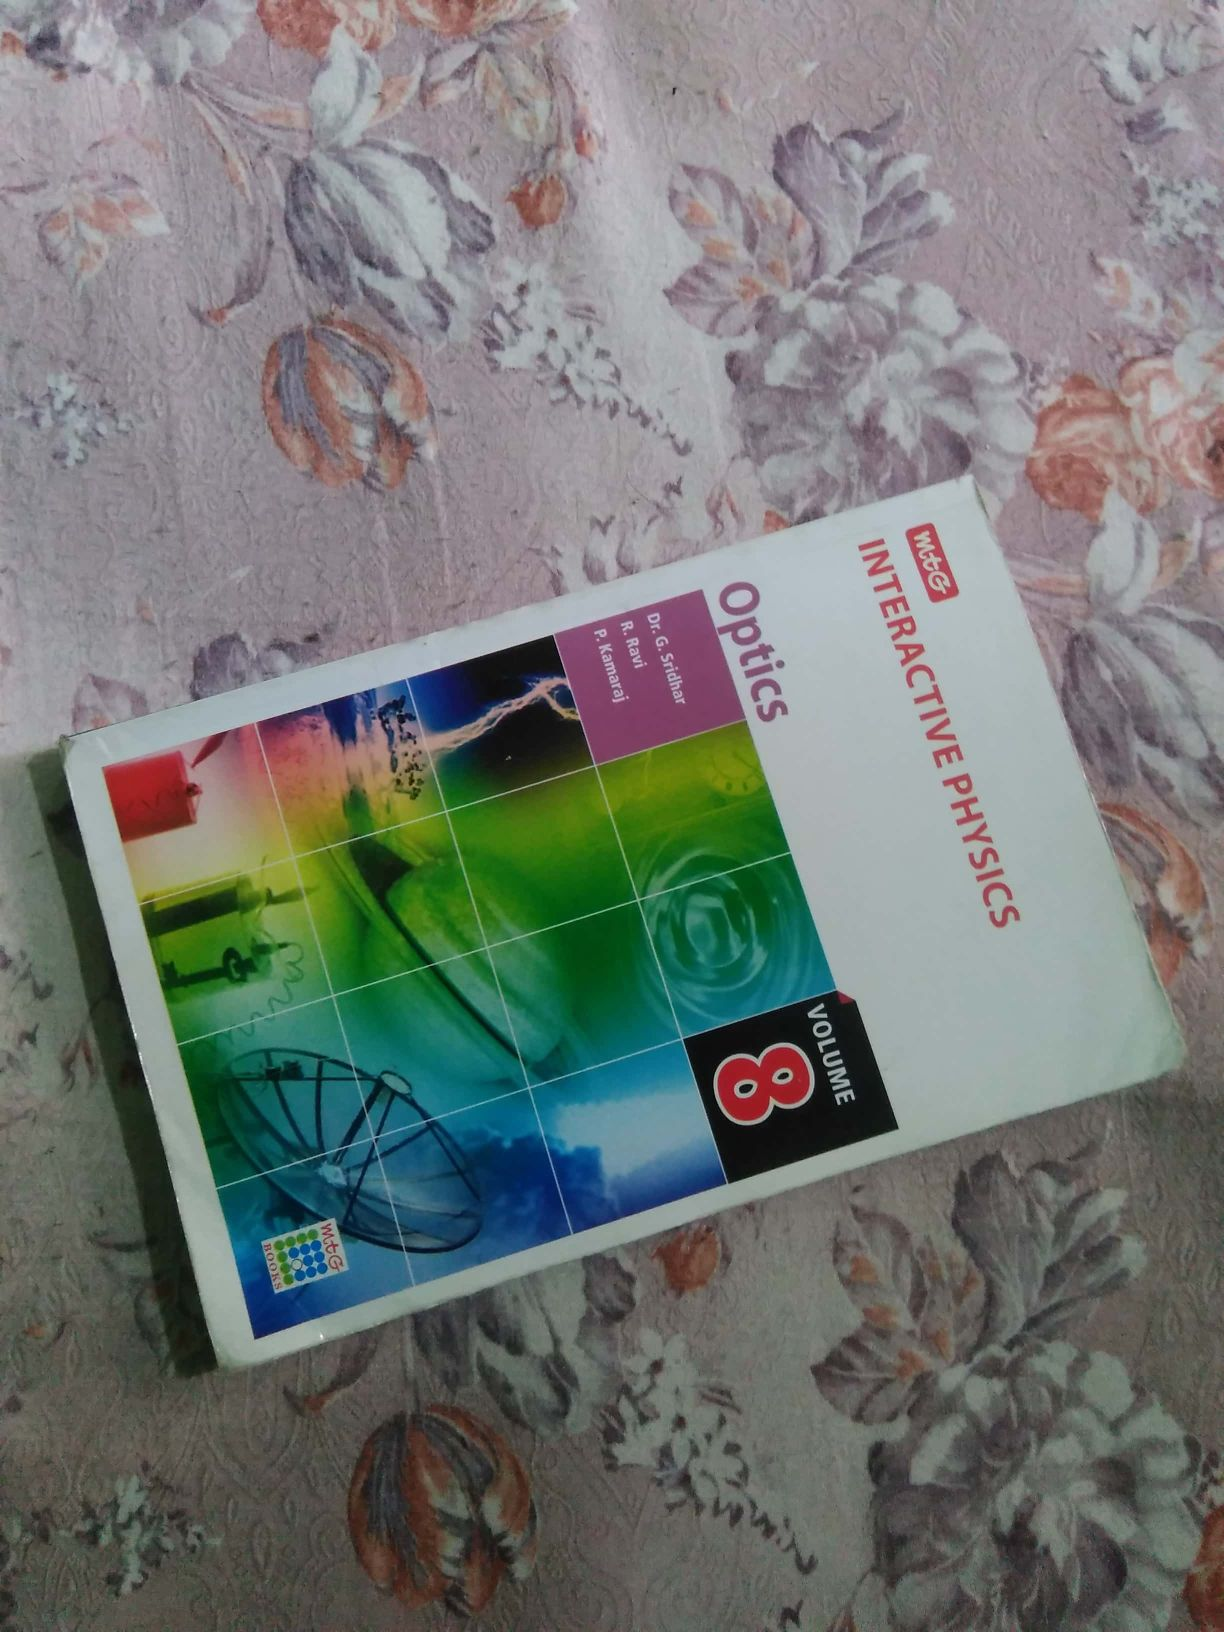optics: (80, 505, 1194, 1369)
